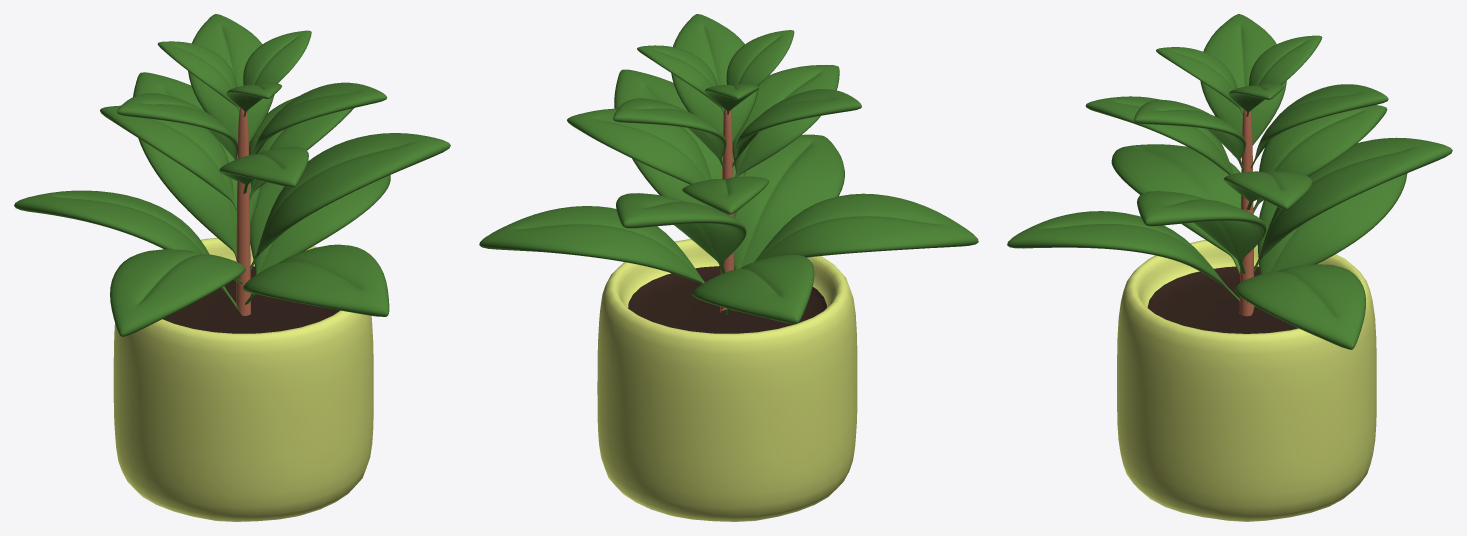
The model's file is Cactus.fbx.
The picture shows the model from 3 angles, left to right: view 1: azimuth 30°, elevation 25°; view 2: azimuth 150°, elevation 25°; view 3: azimuth 270°, elevation 25°; orthographic projection.
Parts seen in each view (by area): view 1: PlantPot.001, Plane.060, Plane.061, Plane.063, Plane.064, Plane.059, Plane.062, Plane.070, Plane.065, Plane.066, Plane.067, Plane.069 (+5 smaller); view 2: PlantPot.001, Plane.061, Plane.062, Plane.063, Plane.064, Plane.068, Plane.059, Plane.069, Plane.066, Plane.060, Plane.067, Plane.065 (+5 smaller); view 3: PlantPot.001, Plane.062, Plane.059, Plane.063, Plane.064, Plane.061, Plane.070, Plane.060, Plane.067, Plane.065, Plane.069, Plane.066 (+5 smaller).
Part boxes in pixels (<box>): PlantPot.001: <box>113,238,373,521</box>; Plane.060: <box>250,133,450,271</box>; Plane.061: <box>110,249,245,336</box>; Plane.063: <box>243,244,389,316</box>; Plane.064: <box>14,190,239,312</box>; Plane.059: <box>133,72,261,260</box>; Plane.062: <box>250,160,390,294</box>; Plane.070: <box>100,105,236,210</box>; Plane.065: <box>188,14,274,143</box>; Plane.066: <box>253,82,387,154</box>; Plane.067: <box>117,93,238,159</box>; Plane.069: <box>219,146,308,193</box>; PlantPot.001: <box>597,239,857,521</box>; Plane.061: <box>754,193,978,261</box>; Plane.062: <box>479,206,704,283</box>; Plane.063: <box>734,134,844,269</box>; Plane.064: <box>692,254,814,323</box>; Plane.068: <box>567,108,711,184</box>; Plane.059: <box>616,193,746,273</box>; Plane.069: <box>732,65,839,176</box>; Plane.066: <box>671,14,758,142</box>; Plane.060: <box>614,69,745,217</box>; Plane.067: <box>732,89,861,167</box>; Plane.065: <box>613,98,726,167</box>; PlantPot.001: <box>1117,240,1376,521</box>; Plane.062: <box>1234,264,1365,349</box>; Plane.059: <box>1253,137,1452,273</box>; Plane.063: <box>1007,211,1239,301</box>; Plane.064: <box>1254,173,1407,307</box>; Plane.061: <box>1111,144,1240,275</box>; Plane.070: <box>1253,105,1387,212</box>; Plane.060: <box>1137,191,1266,273</box>; Plane.067: <box>1200,14,1286,145</box>; Plane.065: <box>1250,84,1388,168</box>; Plane.069: <box>1085,96,1233,174</box>; Plane.066: <box>1134,99,1245,169</box>.
Size of the model in its own units: 172 by 184 by 174.
